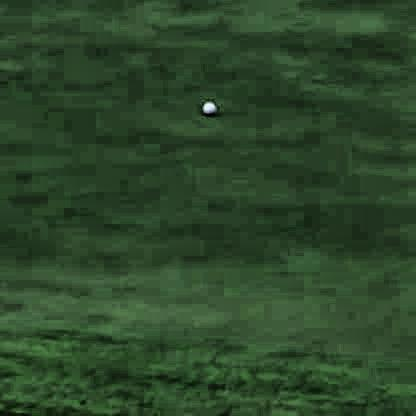golfball: (199, 97, 215, 115)
